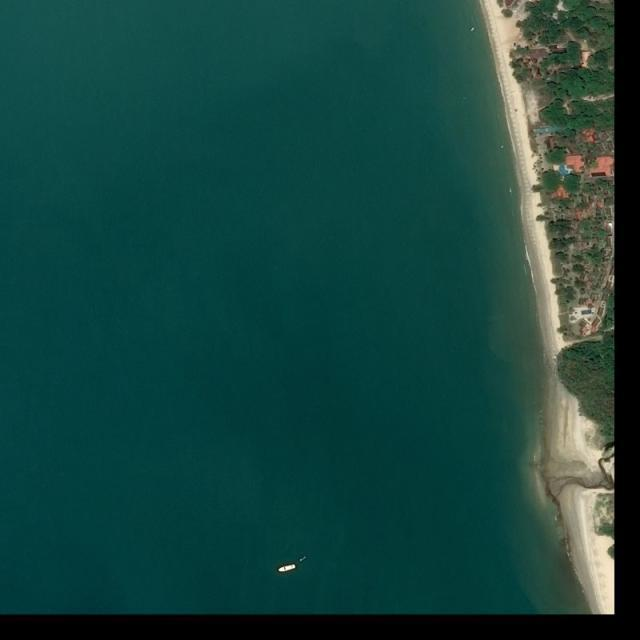ship: (278, 564, 297, 574), (299, 556, 306, 562), (470, 26, 476, 32)
